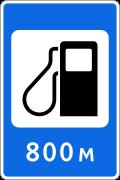Petrol Pump- Gas Station: (3, 22, 112, 166)
